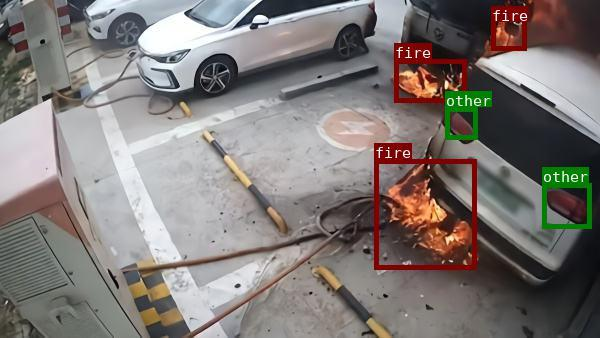fire: (373, 159, 476, 268), (394, 58, 465, 102), (490, 6, 525, 49)
other: (542, 183, 590, 227), (444, 107, 477, 138)
